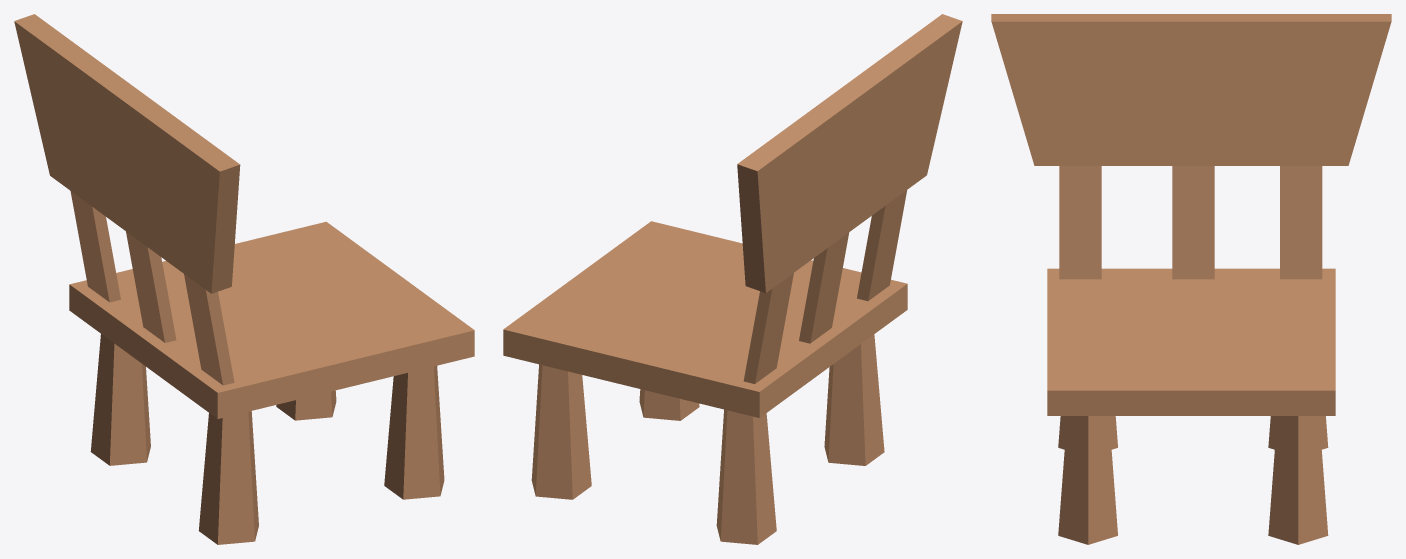
File: OrangeKidChair.fbx
The picture shows the model from 3 angles, left to right: view 1: azimuth 30°, elevation 25°; view 2: azimuth 150°, elevation 25°; view 3: azimuth 270°, elevation 25°; orthographic projection. The views are drawn at different scales.
Visible parts, largest first — view 1: pCube11; view 2: pCube11; view 3: pCube11.
Part boxes in pixels (x1,y1,x2,y2): pCube11: [14, 14, 474, 544]; pCube11: [503, 14, 962, 544]; pCube11: [991, 14, 1391, 544].
Bounding box in the file's own units: 1.42 × 1.99 × 1.79.
